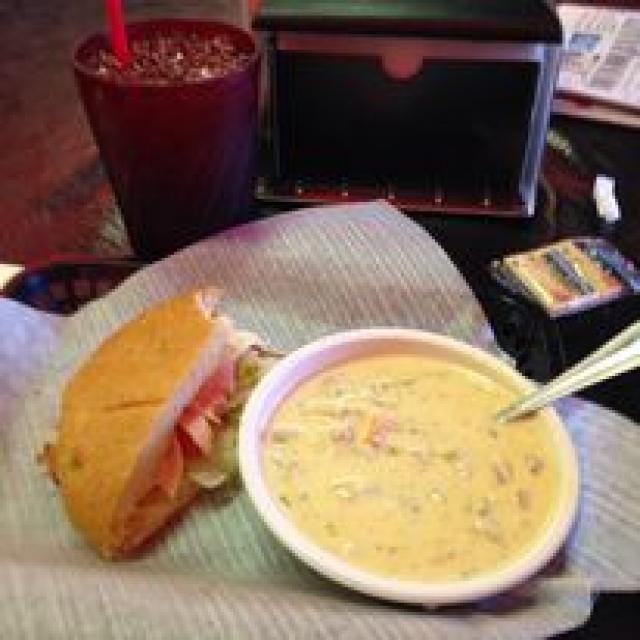Sandwich: (46, 283, 252, 553)
